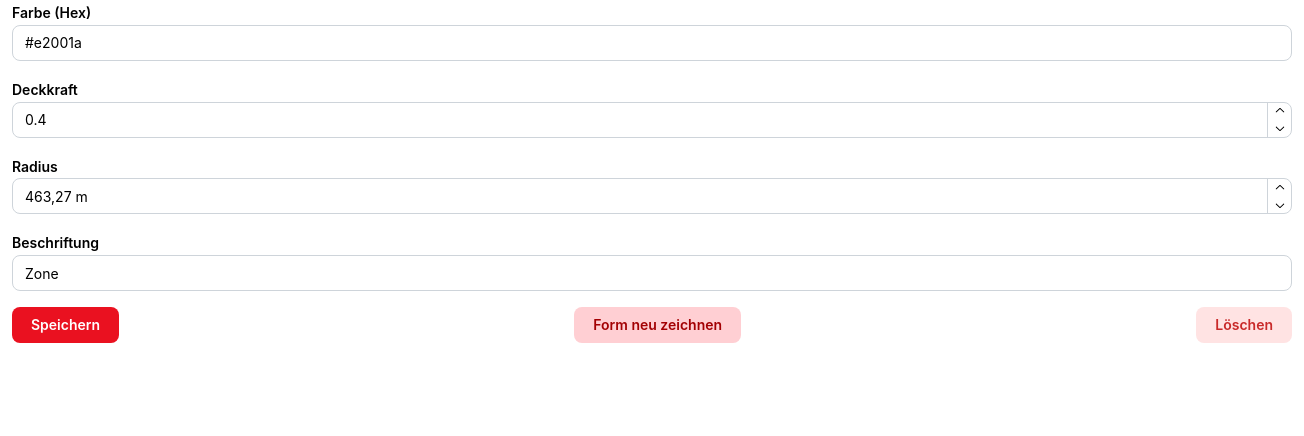
Test case: AreaEditor › rejects a 0 radius with an error and does not save
Replace the text in the field labelled "Radius" with "0" at (652, 196), box [12,178,1292,214]
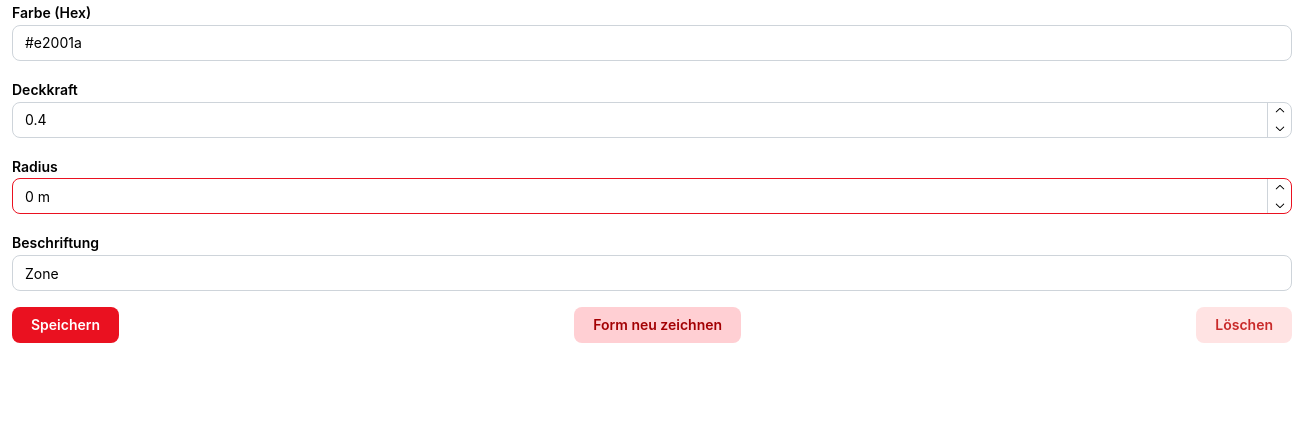
Click the button "Speichern" at (66, 325), box [12,307,119,343]
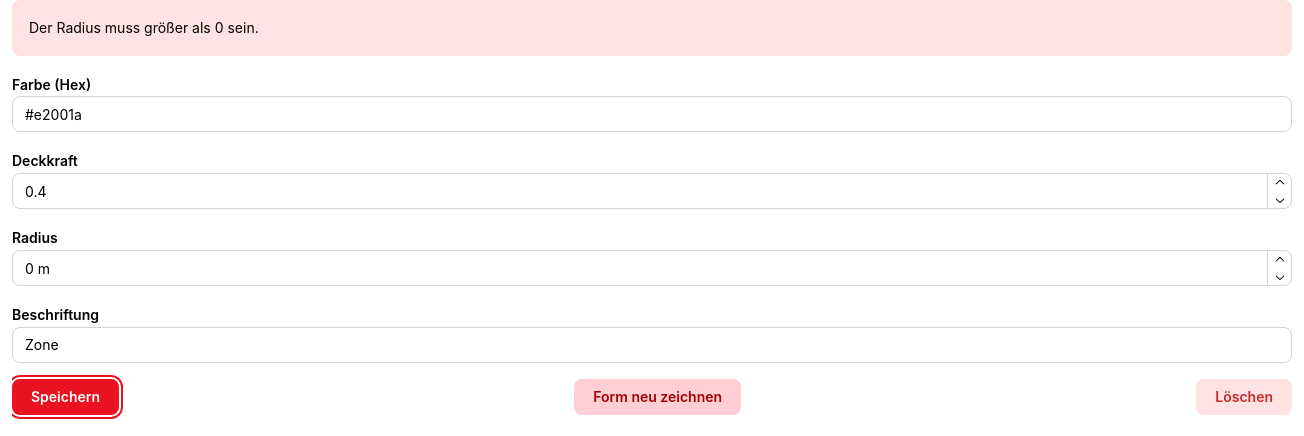
Result: the message reads "Der Radius muss größer als 0 sein." at [29,19,259,36]
